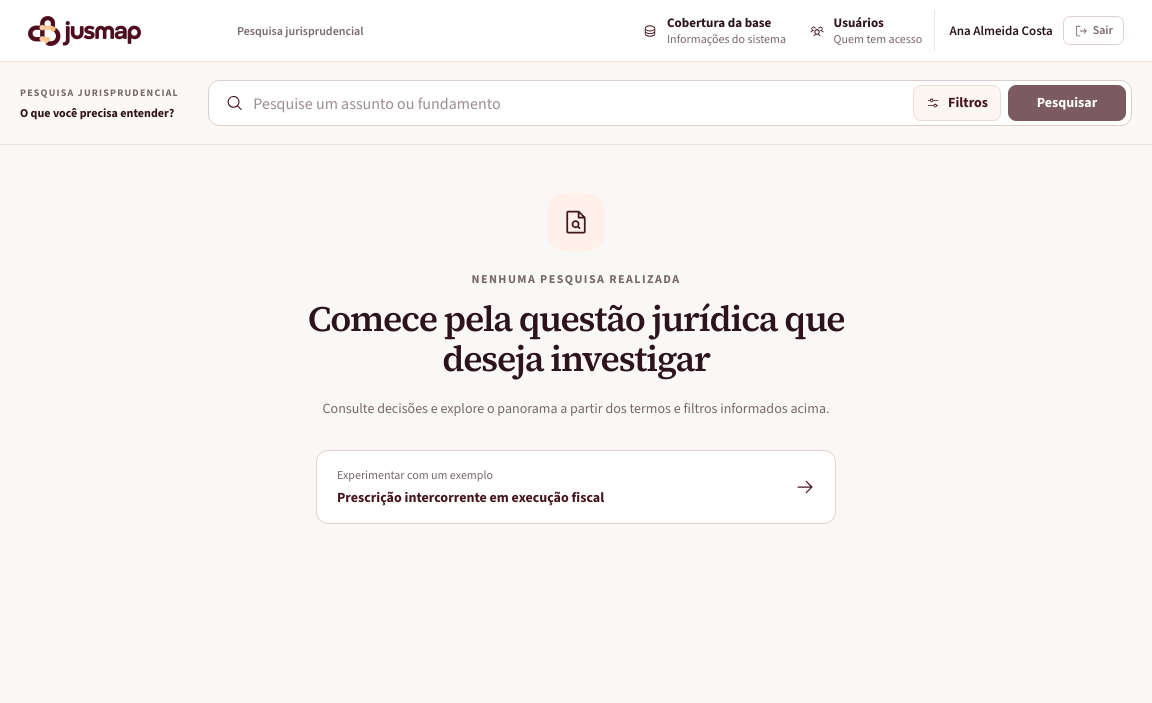
Scenario: the top bar › reaches the coverage from the search screen
This screenshot has width=1152, height=703.
Step 1. Type "prescrição intercorrente em execução fiscal" into the search field named "Pesquisar decisões" → (578, 103), box [253,85,903,121]
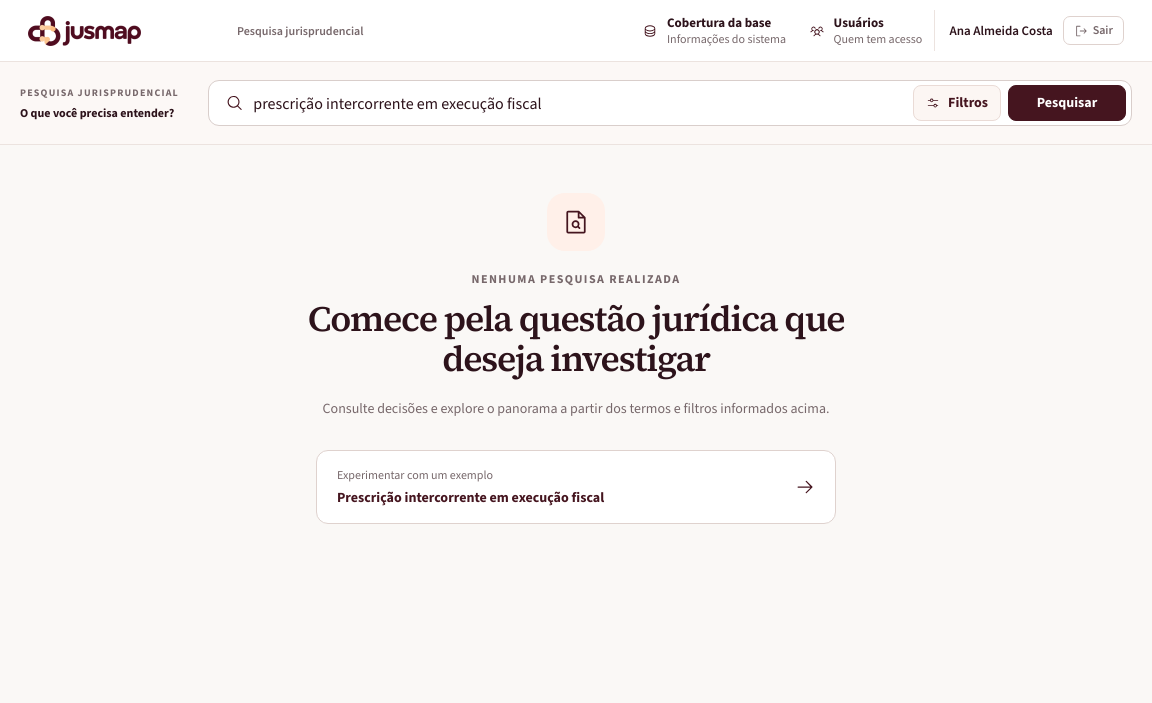
Step 2. Click the link "Cobertura da base Informações do sistema" → (715, 31), box [631,10,798,51]
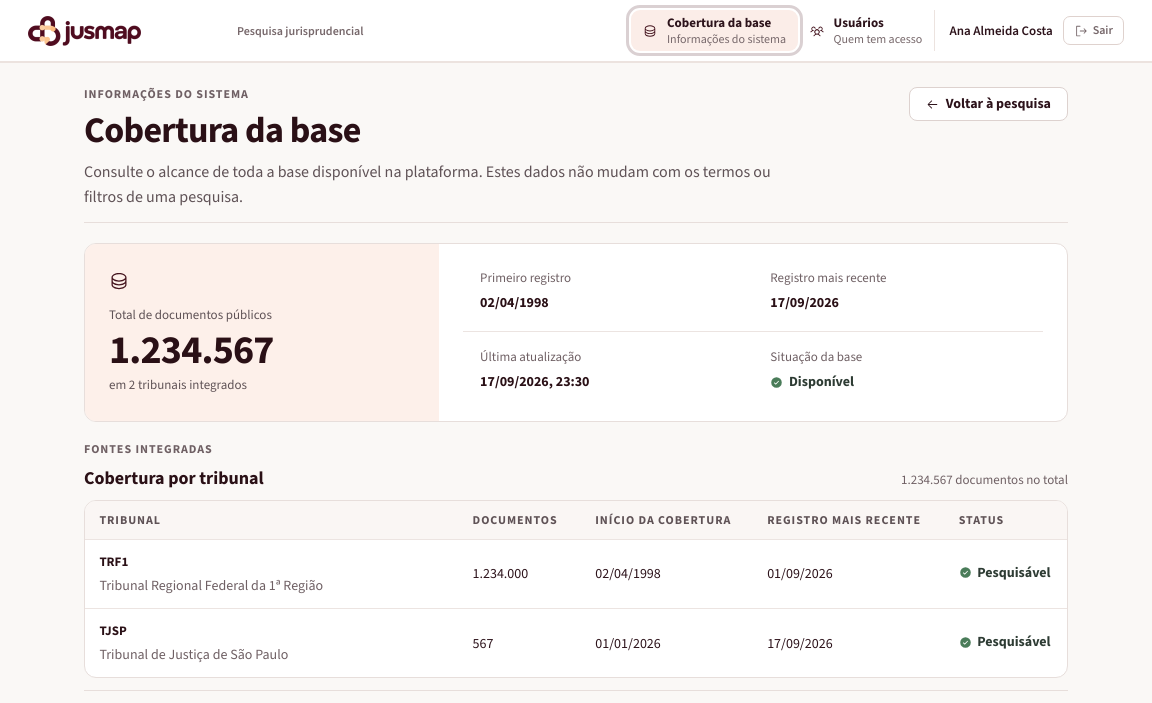
Expected: the heading "Cobertura da base" is shown, [84,106,361,154]
